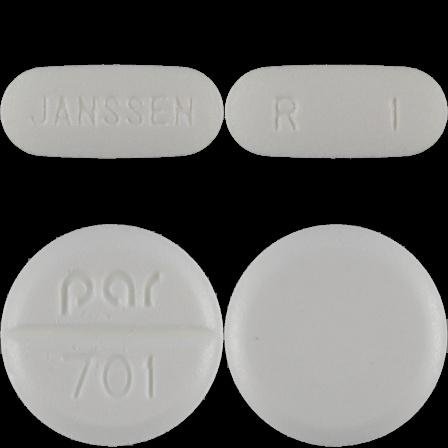21695-113: (0, 0, 224, 224)
